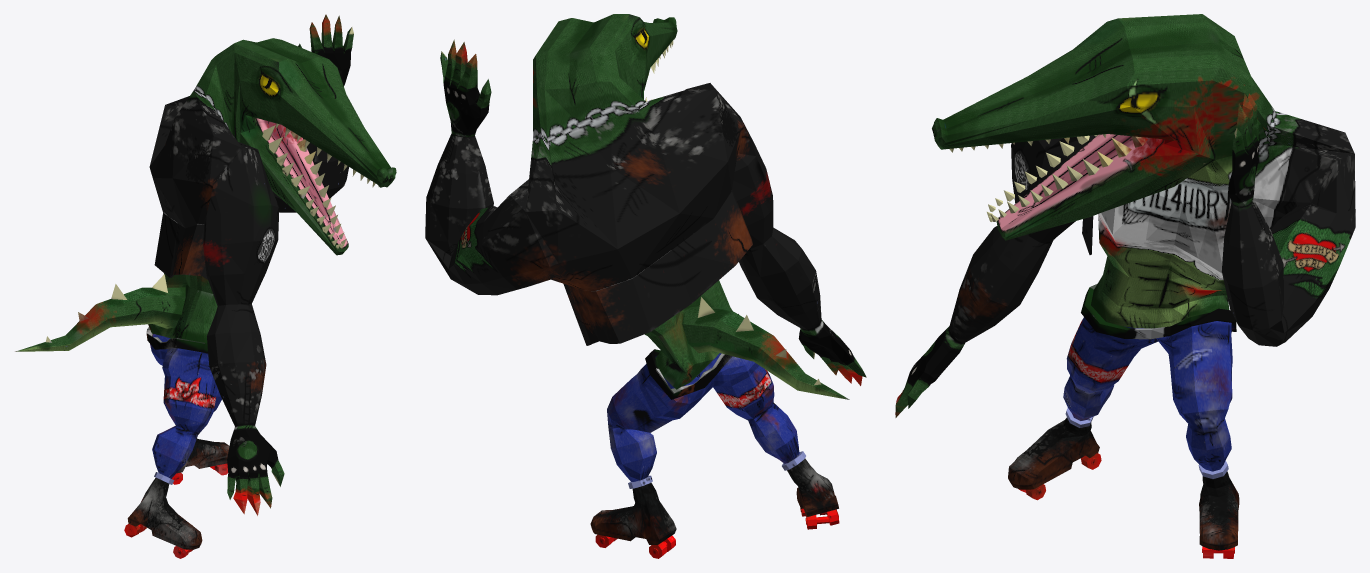
The model's file is cocodrilaBonesSelect_000050.obj.
3 views of the same model, side by side, from view 1: azimuth 30°, elevation 25°; view 2: azimuth 150°, elevation 25°; view 3: azimuth 270°, elevation 25° (orthographic). The views are drawn at different scales.
Visible parts, largest first — view 1: Crocodile.002_Cylinder.002; view 2: Crocodile.002_Cylinder.002; view 3: Crocodile.002_Cylinder.002.
Part boxes in pixels (x1=…): Crocodile.002_Cylinder.002: x1=15, y1=14, x2=396, y2=558; Crocodile.002_Cylinder.002: x1=425, y1=14, x2=866, y2=558; Crocodile.002_Cylinder.002: x1=895, y1=14, x2=1355, y2=558.
Size of the model in its own units: 5.23 by 6.17 by 4.62.
